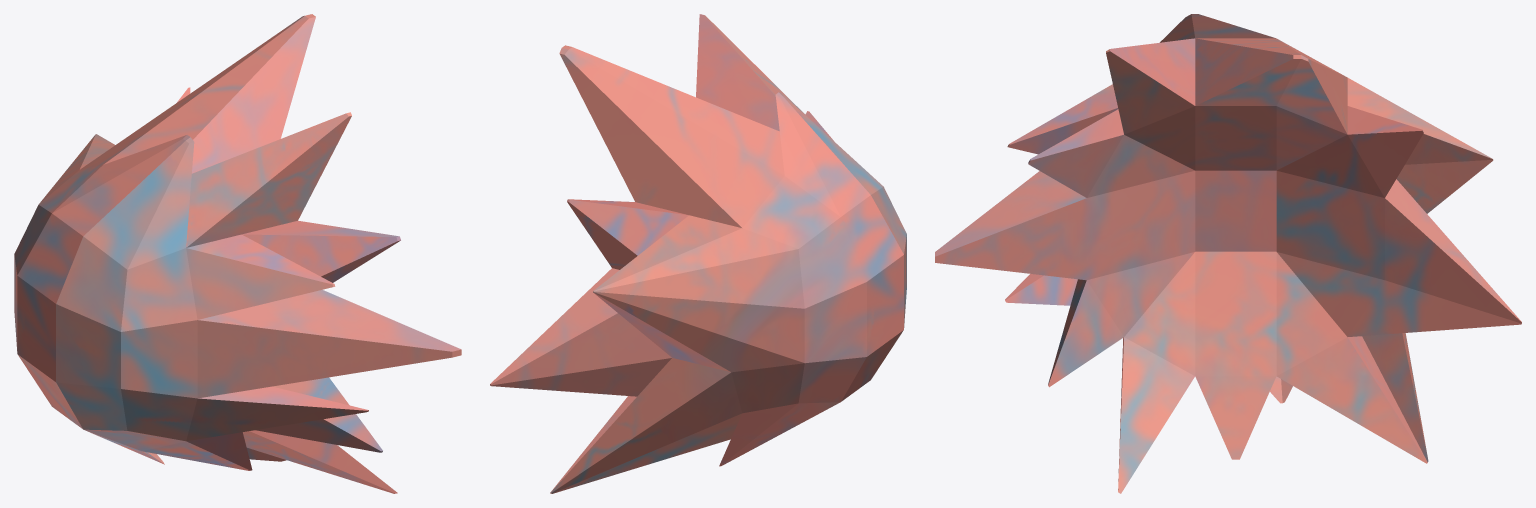
File: Bala.fbx
The picture shows the model from 3 angles, left to right: view 1: azimuth 30°, elevation 25°; view 2: azimuth 150°, elevation 25°; view 3: azimuth 270°, elevation 25°; orthographic projection. The views are drawn at different scales.
Visible parts, largest first — view 1: Bala; view 2: Bala; view 3: Bala.
Part boxes in pixels (x1,y1,x2,y2): Bala: [14, 14, 461, 493]; Bala: [490, 14, 906, 493]; Bala: [935, 14, 1521, 493].
Size of the model in its own units: 3.98 by 5.16 by 6.3.
1 material, 1 textured.
